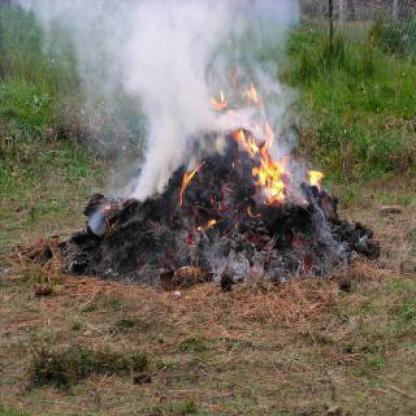fire: (210, 86, 288, 204), (176, 157, 207, 209), (303, 158, 331, 202)
